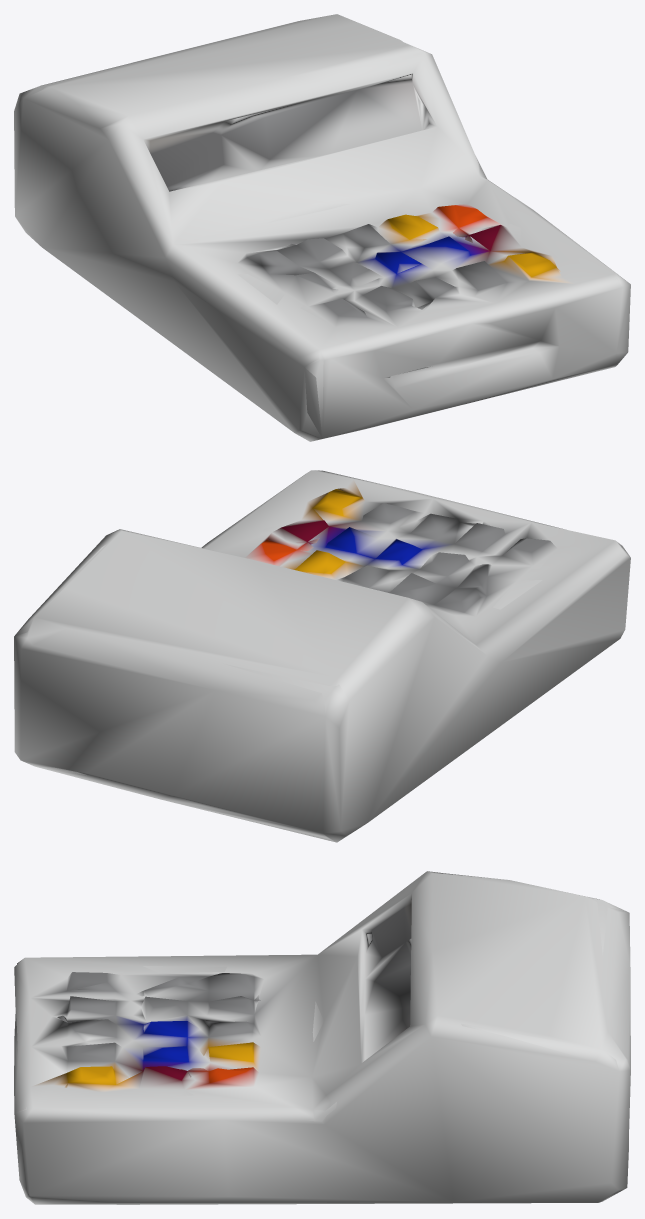
File: gen3d-cash-register-lod1.glb
3 renders of one model, top to bottom at view 1: azimuth 30°, elevation 25°; view 2: azimuth 150°, elevation 25°; view 3: azimuth 270°, elevation 25°, orthographic. The views are drawn at different scales.
Parts seen in each view (by area): view 1: part_0; view 2: part_0; view 3: part_0.
Part boxes in pixels (bbox=[...]): part_0: bbox=[14, 14, 630, 441]; part_0: bbox=[14, 470, 630, 842]; part_0: bbox=[14, 871, 630, 1204].
Size of the model in its own units: 1.88 by 0.9999 by 3.01.
